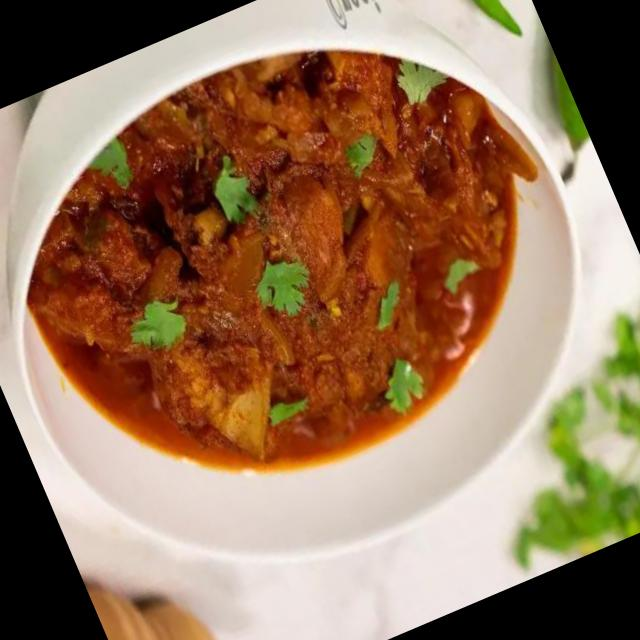chicken: (0, 0, 605, 506)
